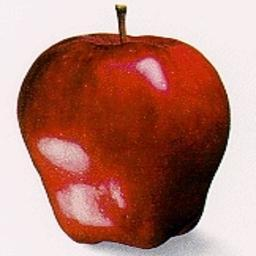apple: (17, 30, 230, 246)
